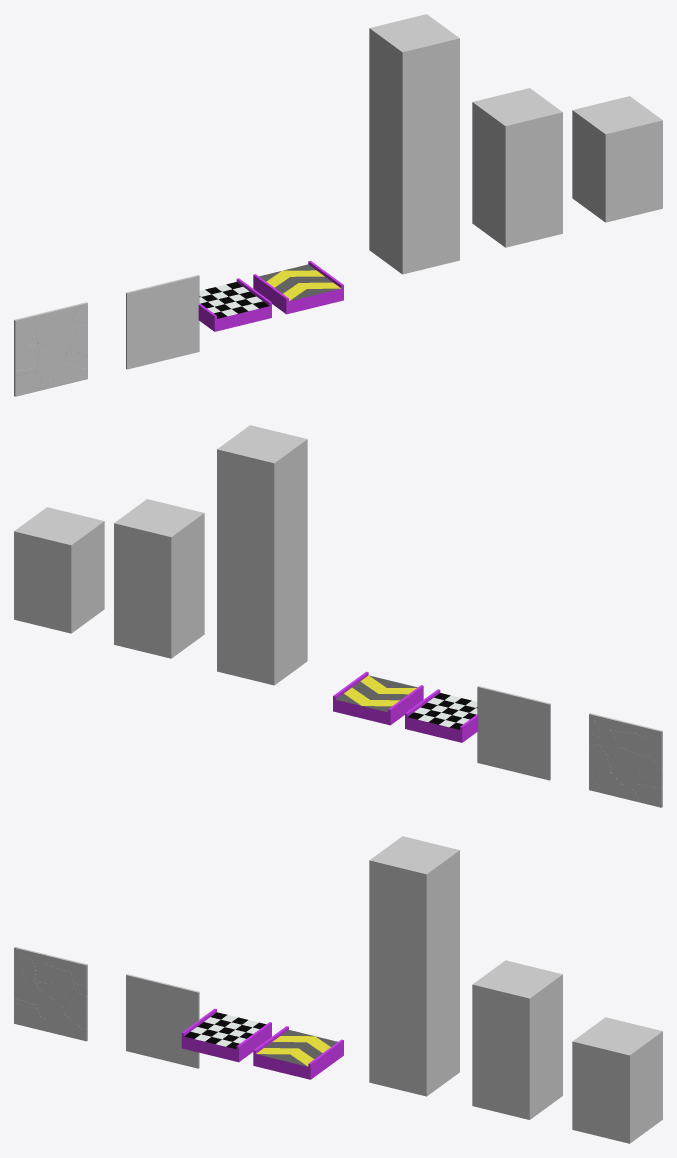
File: ileri.geri.oyun.fbx
3 views of the same model, one above another, from view 1: azimuth 30°, elevation 25°; view 2: azimuth 150°, elevation 25°; view 3: azimuth 330°, elevation 25° (orthographic).
Parts seen in each view (by area): view 1: yüksek.bina, orta.bina, küçük.bina, Cube, hareketli.platform, bitiş.platform, Cube_cell.017; view 2: yüksek.bina, orta.bina, küçük.bina, Cube, hareketli.platform, bitiş.platform, Cube_cell.017, Cube_cell.006; view 3: yüksek.bina, orta.bina, küçük.bina, Cube, hareketli.platform, bitiş.platform, Cube_cell.017, Cube_cell.007, Cube_cell.006, Cube_cell.018, Cube_cell.020.
Part boxes in pixels (x1,y1,x2,y2): yüksek.bina: (369, 14, 459, 274); orta.bina: (472, 88, 562, 247); küçük.bina: (572, 96, 662, 222); Cube: (126, 275, 199, 369); hareketli.platform: (253, 260, 343, 314); bitiş.platform: (198, 278, 271, 331); Cube_cell.017: (37, 349, 65, 377); yüksek.bina: (217, 425, 307, 685); orta.bina: (114, 499, 204, 658); küçük.bina: (14, 507, 104, 633); Cube: (477, 686, 550, 780); hareketli.platform: (333, 671, 423, 725); bitiş.platform: (405, 689, 478, 742); Cube_cell.017: (610, 760, 640, 789); Cube_cell.006: (594, 772, 625, 798); yüksek.bina: (369, 836, 459, 1096); orta.bina: (472, 960, 562, 1119); küçük.bina: (572, 1017, 662, 1143); Cube: (126, 974, 199, 1068); hareketli.platform: (253, 1026, 343, 1079); bitiş.platform: (181, 1008, 271, 1062); Cube_cell.017: (36, 988, 64, 1020); Cube_cell.007: (14, 1002, 40, 1028); Cube_cell.006: (51, 1014, 82, 1038); Cube_cell.018: (34, 962, 66, 983); Cube_cell.020: (14, 978, 37, 1004).
Size of the model in its own units: 2201 by 884 by 200.
